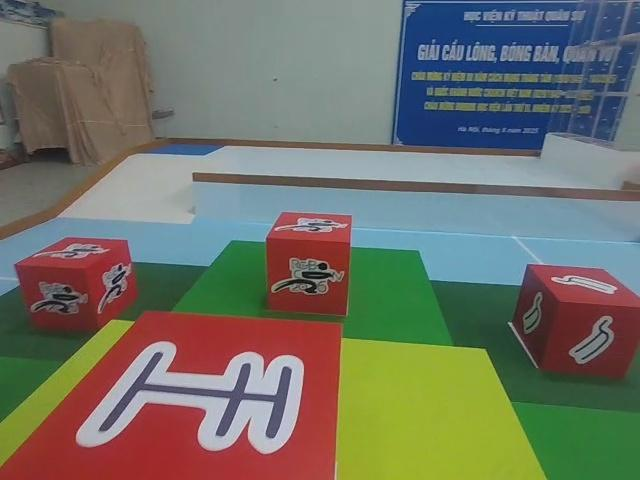R1: (14, 233, 142, 335), (263, 210, 353, 319)
R2 Fake: (0, 308, 344, 478)
R2 Real: (507, 258, 640, 382)
